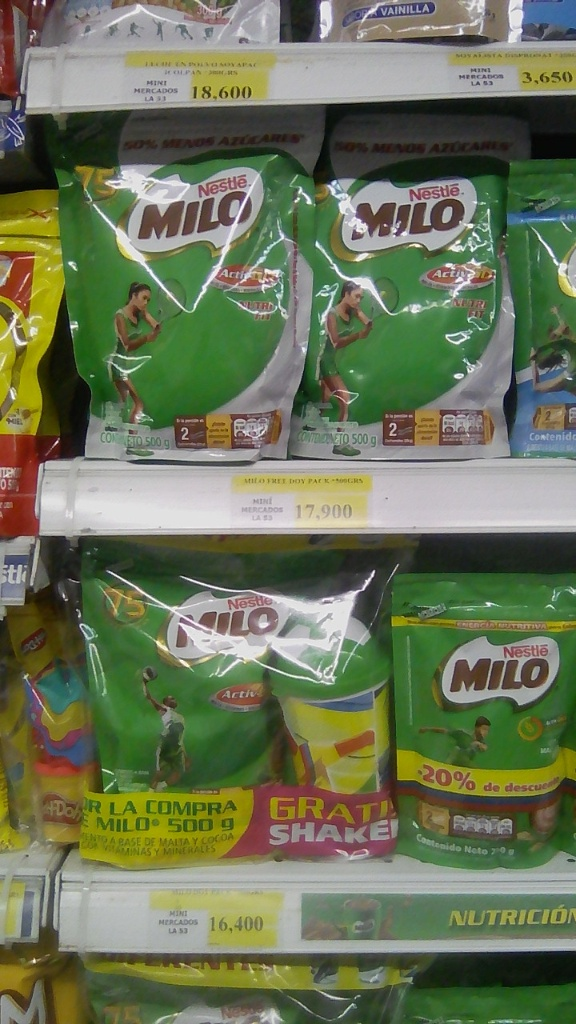COL0170203DYP25000: (389, 564, 575, 872)
COL0170203DYP50000: (65, 543, 285, 793)
COL0170205DYP20000: (505, 158, 576, 463)
COL0170205DYP50000: (306, 104, 515, 464)
